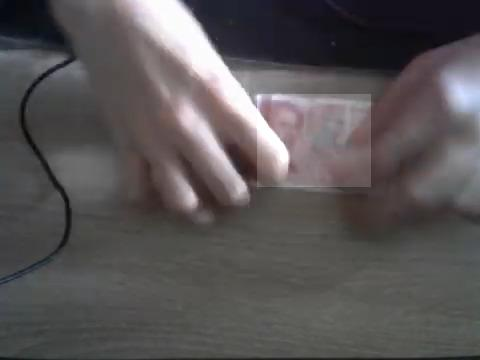5leva: (257, 94, 371, 187)
